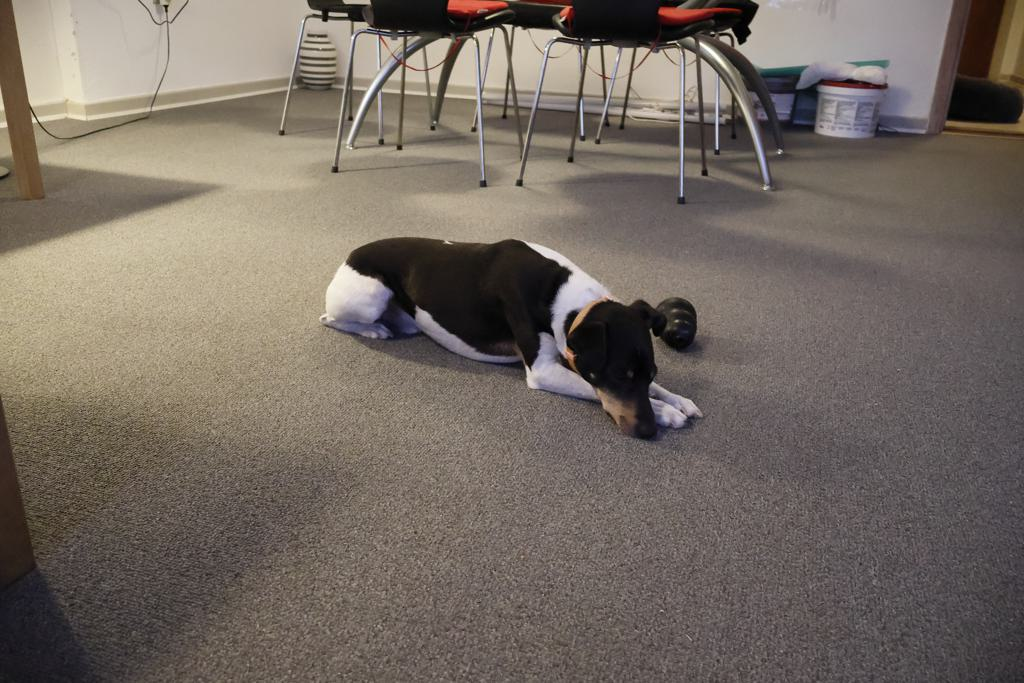Dog: (316, 209, 724, 453)
